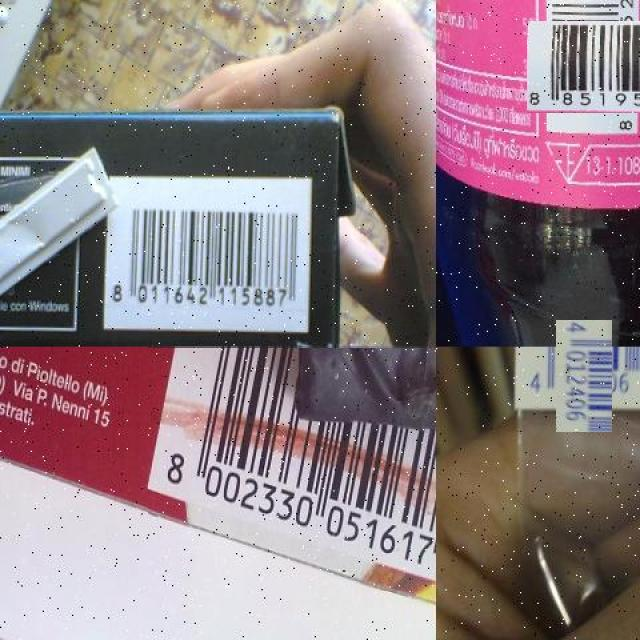Barcode: (148, 347, 436, 590), (106, 168, 315, 337), (538, 11, 640, 124), (542, 333, 626, 418)
